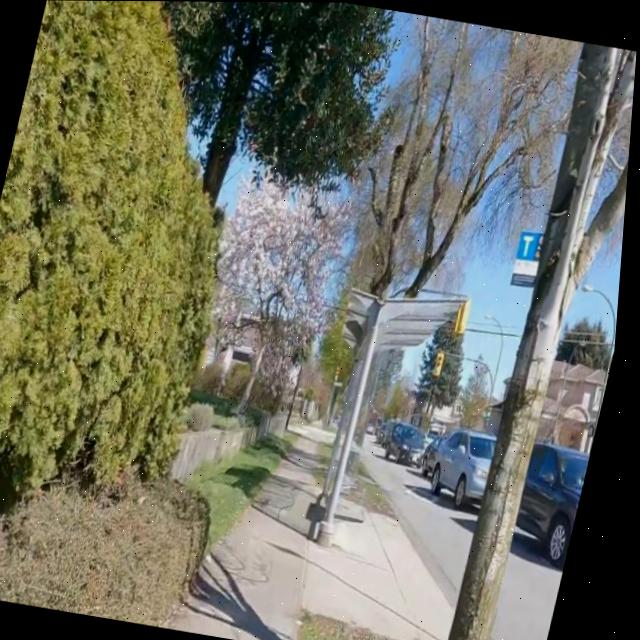Automobile: (524, 442, 597, 569), (430, 428, 501, 506), (392, 421, 435, 463), (382, 419, 405, 444)
Obstacle: (0, 0, 220, 503), (457, 42, 637, 640), (0, 473, 216, 627), (326, 299, 389, 545), (195, 437, 298, 550), (382, 289, 475, 350), (177, 424, 262, 481), (307, 612, 412, 640), (358, 465, 399, 514), (348, 288, 378, 346), (271, 411, 293, 435)
Road: (373, 457, 485, 604), (503, 527, 572, 640), (296, 424, 341, 443)
Sidewalk: (177, 435, 325, 640), (313, 505, 461, 640)
